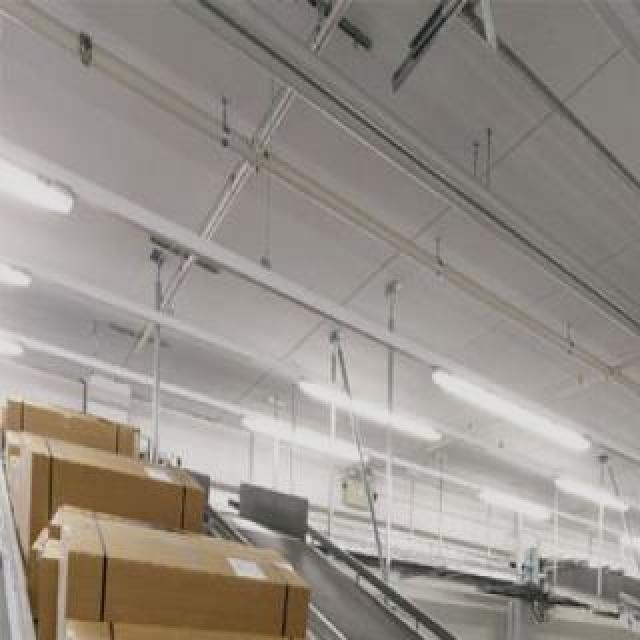fluorescent tube: (425, 363, 623, 461), (291, 364, 456, 444), (0, 135, 140, 229), (475, 478, 573, 547), (0, 229, 64, 316), (557, 469, 627, 526), (612, 520, 640, 572)
